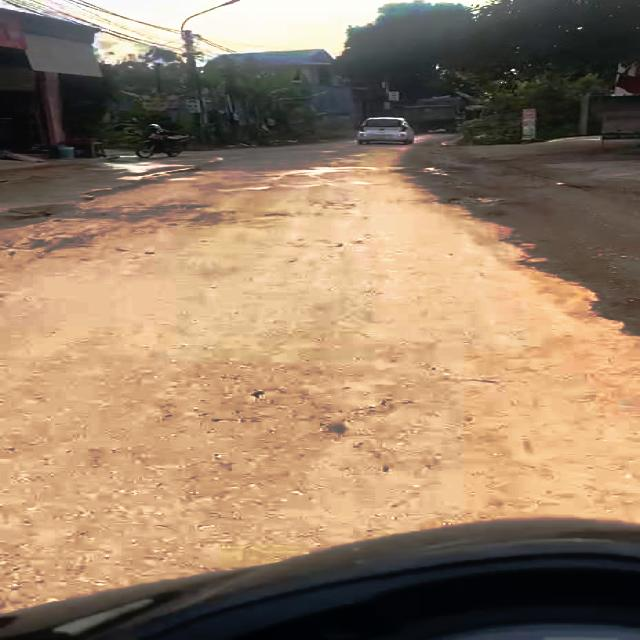pothole: (498, 237, 640, 334), (442, 193, 512, 208), (418, 165, 452, 178)
